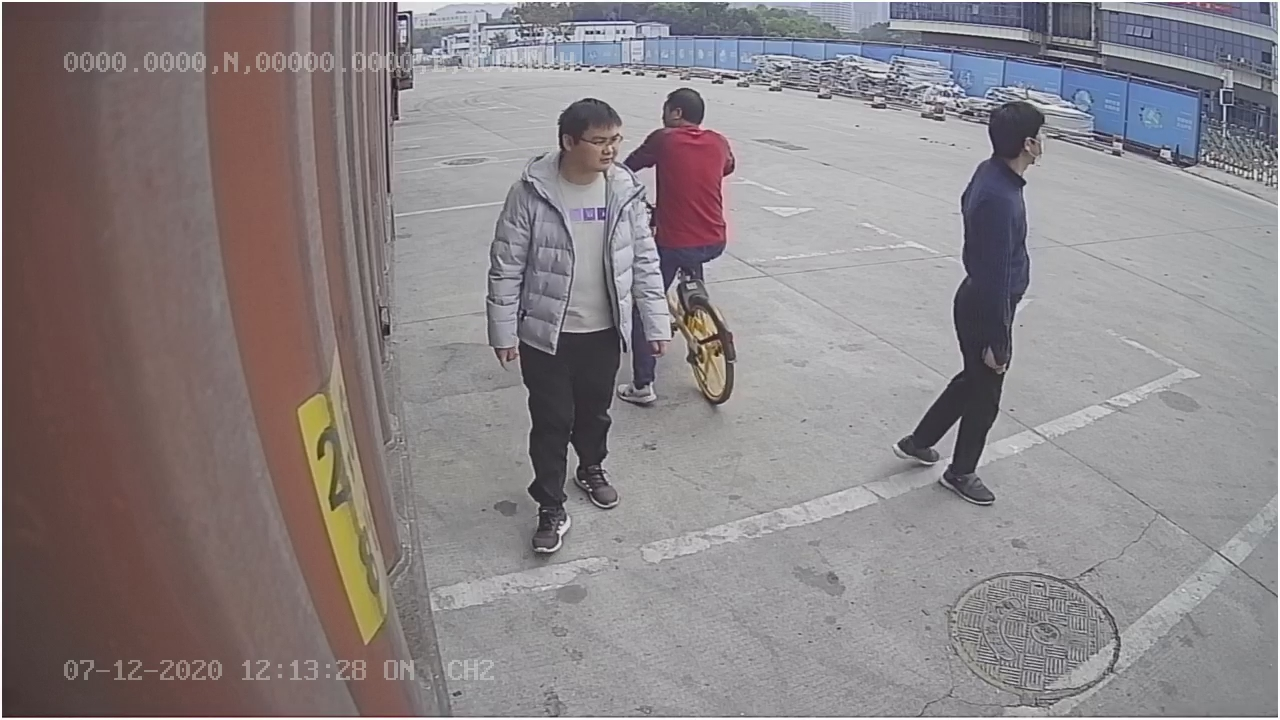person: (889, 76, 1048, 503)
